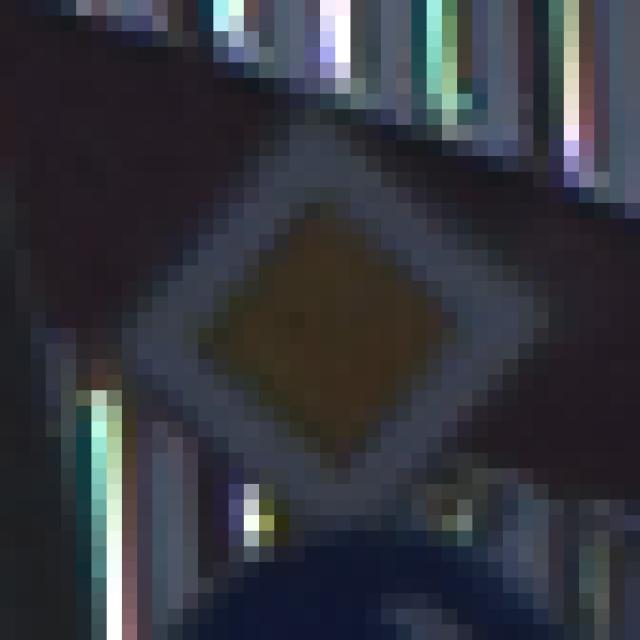Main Road: (92, 95, 565, 563)
